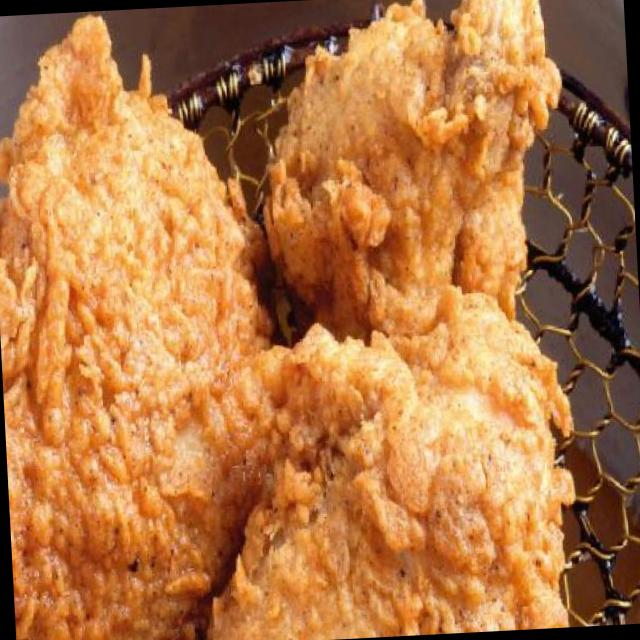Fried Chicken: (0, 0, 571, 640)
